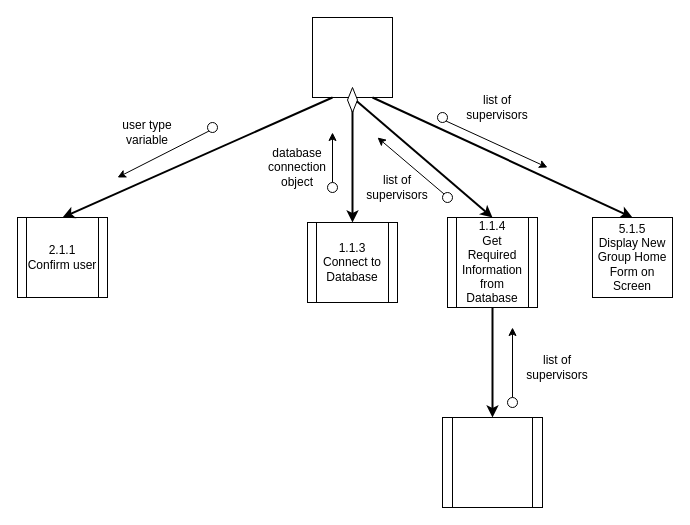
Image size: 690x525. Some labels were removed from this diagram. Here are the shapes that lost their labels. From the top down, the centre of each, then its label:
At [352,57]: "5.1 Display New Group Home Form".
At [492,462]: "5.1.4.1 Retrieve List of Supervisors from Staff Table".
